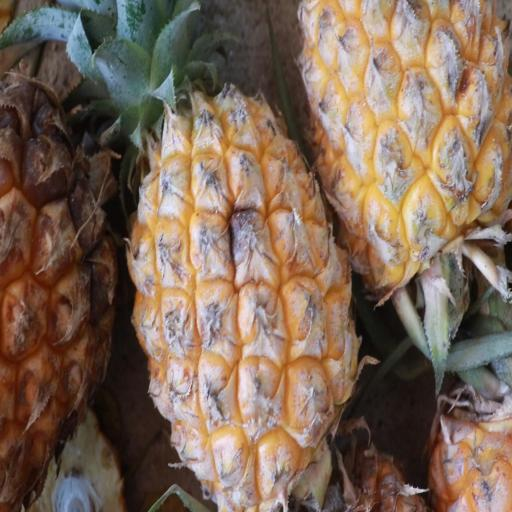Pineapple - v8 v1: (119, 0, 362, 512), (296, 0, 512, 304)
